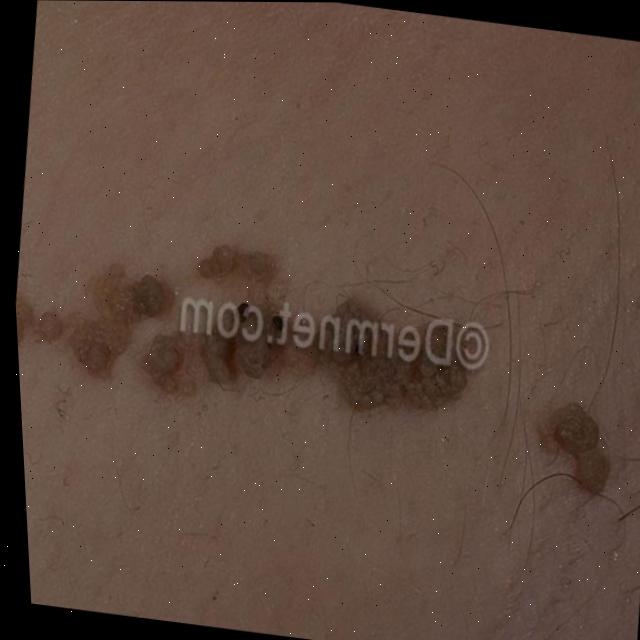Eczema: (11, 212, 640, 499)
